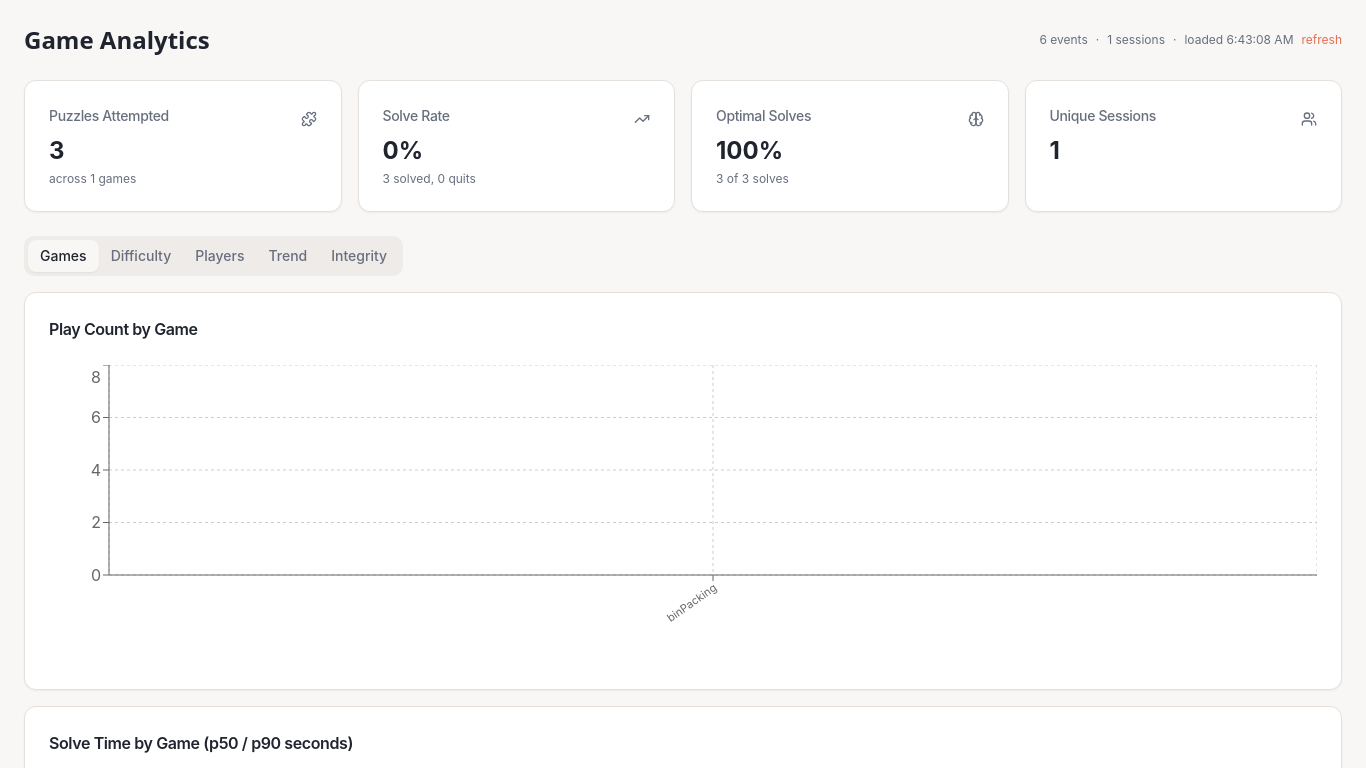
Scenario: Dashboard › switches to Players tab and shows session data
The image size is (1366, 768).
Expected: the heading "Game Analytics" is shown, left=24, top=24, right=210, bottom=56
Step 1. Click the tab "Players" → click(220, 256), box left=183, top=240, right=256, bottom=272
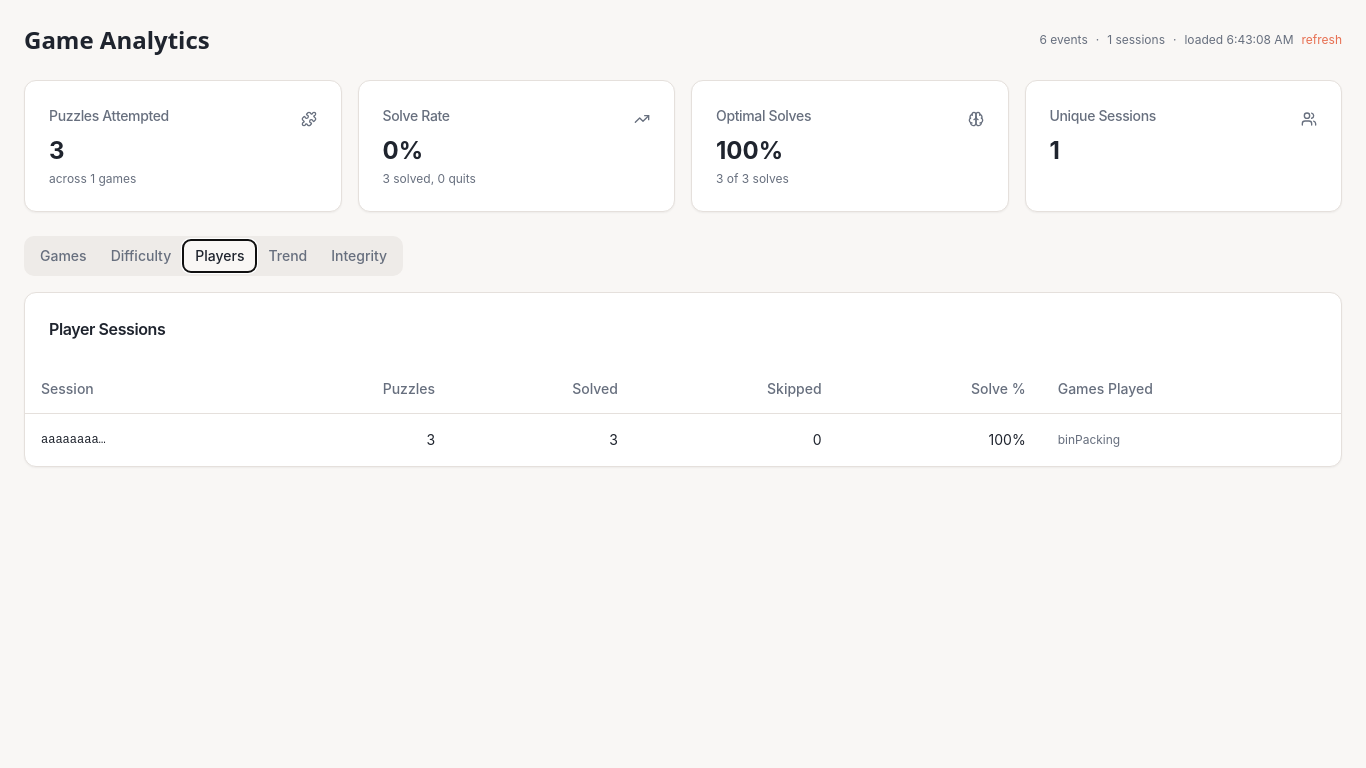
Expected: the text "Player Sessions" is shown, left=49, top=319, right=165, bottom=339
